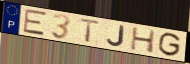3: (50, 14, 75, 40)
E: (23, 9, 48, 37)
G: (157, 32, 183, 58)
H: (129, 26, 157, 54)
J: (106, 25, 126, 48)
T: (78, 17, 102, 43)
